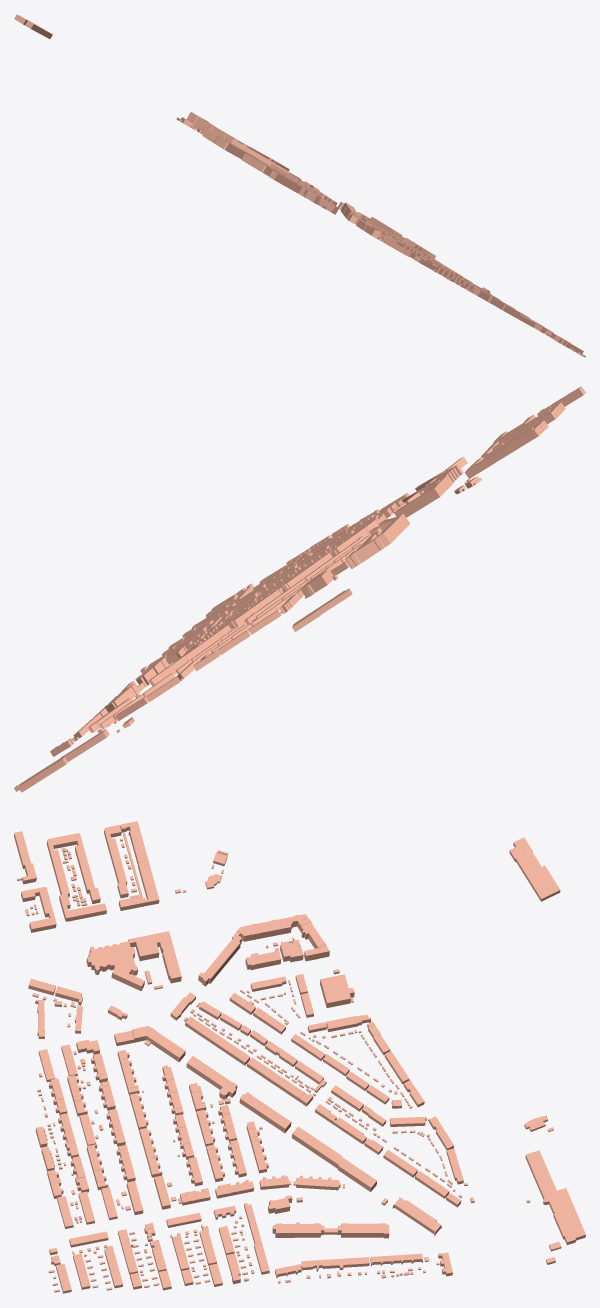
The picture shows the model from 3 angles, top to bottom: view 1: azimuth 30°, elevation 25°; view 2: azimuth 150°, elevation 25°; view 3: azimuth 270°, elevation 25°; orthographic projection. The views are drawn at different scales.
Size of the model in its own units: 490 by 378 by 658.
